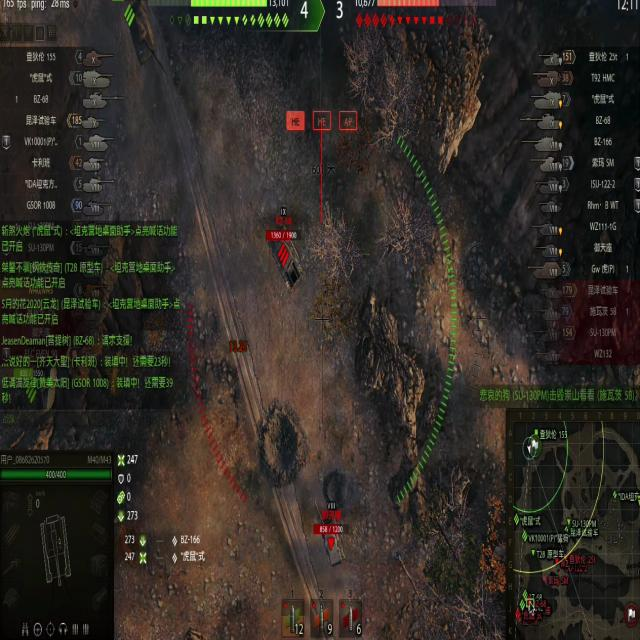tank: (264, 213, 306, 294)
